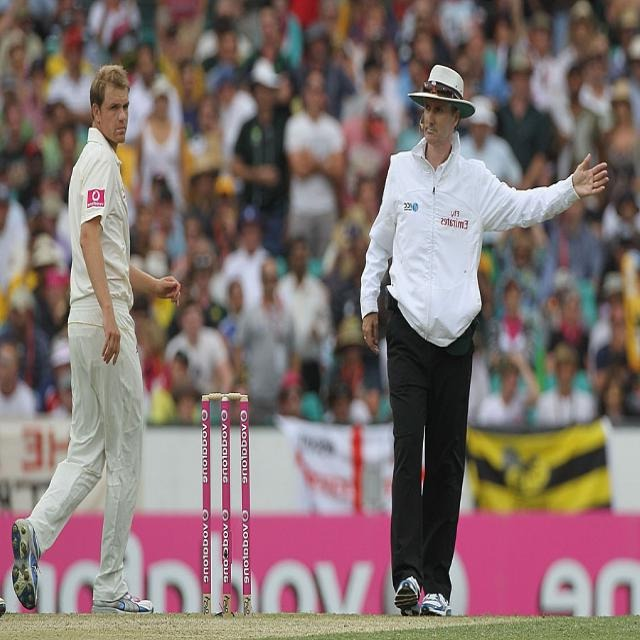No_Ball: (356, 55, 612, 615)
